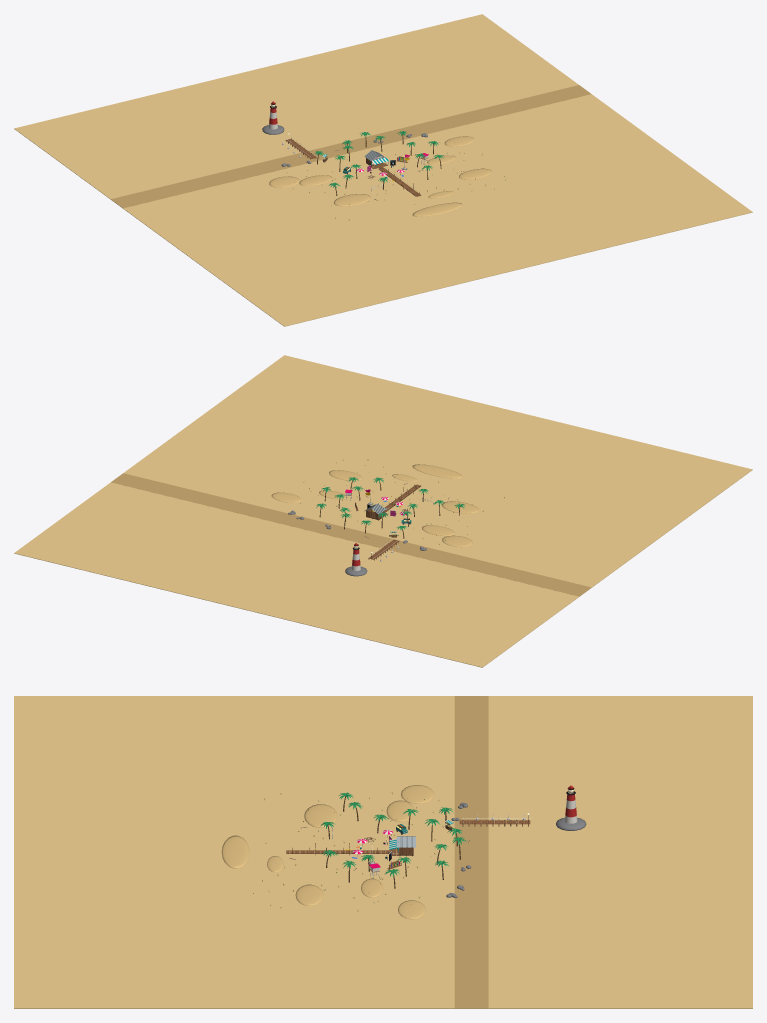
File: beach.glb
3 views of the same model, one above another, from view 1: azimuth 30°, elevation 25°; view 2: azimuth 150°, elevation 25°; view 3: azimuth 270°, elevation 25° (orthographic). The views are drawn at different scales.
Visible parts, largest first — view 1: ground, wetsand, dune; view 2: ground, wetsand, dune; view 3: ground, wetsand, dune, frond, frond.001, bw.001, bw.
Part boxes in pixels (x1,y1,x2,y2): ground: (14, 14, 752, 326); wetsand: (111, 85, 591, 208); dune: (269, 136, 491, 216); ground: (14, 355, 752, 667); wetsand: (111, 473, 591, 596); dune: (271, 464, 478, 547); ground: (14, 696, 752, 1008); wetsand: (454, 696, 488, 1008); dune: (221, 785, 434, 919); frond: (321, 792, 466, 876); frond.001: (322, 793, 464, 877); bw.001: (287, 820, 530, 872); bw: (286, 820, 529, 853).
Bounding box in the file's own units: 260 × 17.55 × 260.
